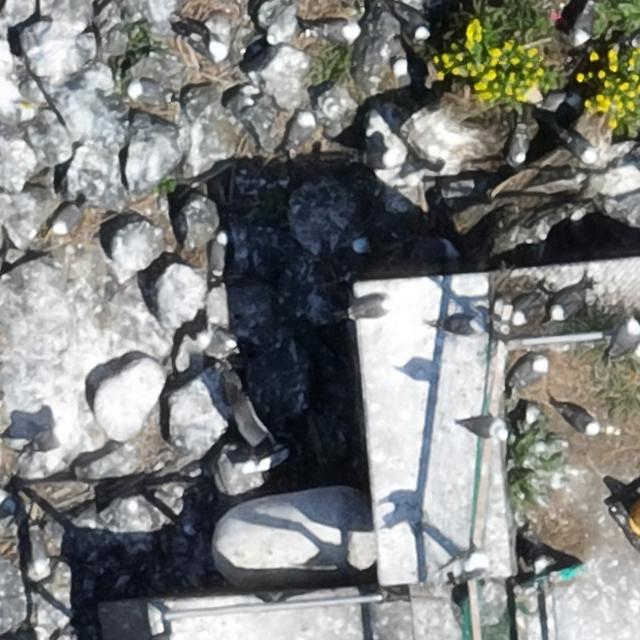umineko: (448, 549, 487, 590), (29, 425, 76, 455), (27, 522, 52, 574), (245, 452, 286, 478), (347, 236, 378, 269), (460, 415, 504, 436), (399, 10, 430, 39), (612, 320, 638, 354), (318, 21, 360, 42), (52, 204, 81, 234), (563, 409, 598, 433), (514, 359, 546, 385), (289, 114, 314, 146), (130, 80, 170, 100), (566, 135, 596, 161), (352, 299, 388, 319), (210, 231, 227, 273), (574, 6, 593, 43), (509, 130, 528, 165), (512, 296, 536, 322), (552, 296, 579, 319), (519, 408, 540, 437), (450, 319, 484, 334), (394, 58, 412, 82)
